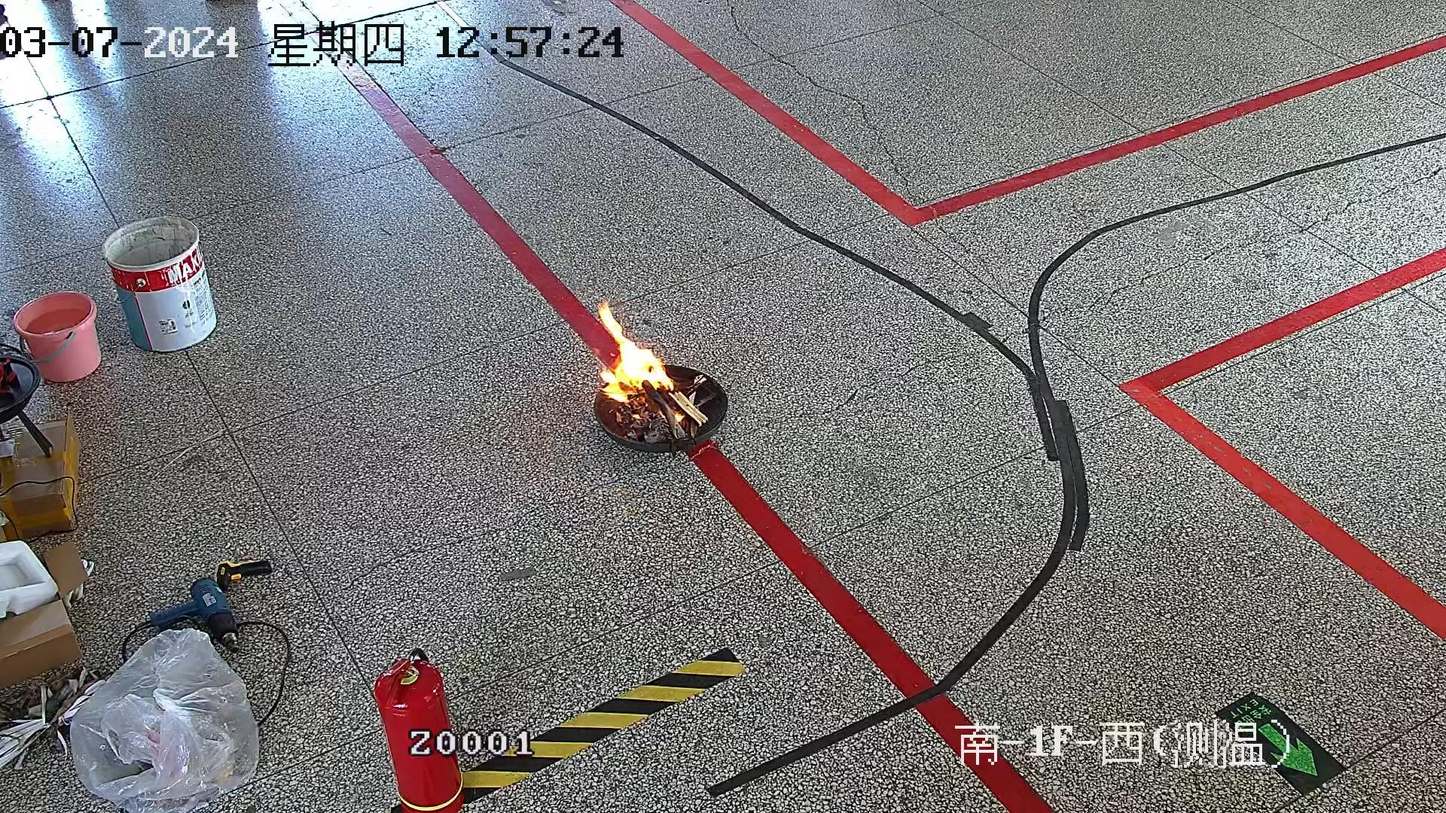fire: (597, 303, 673, 401)
